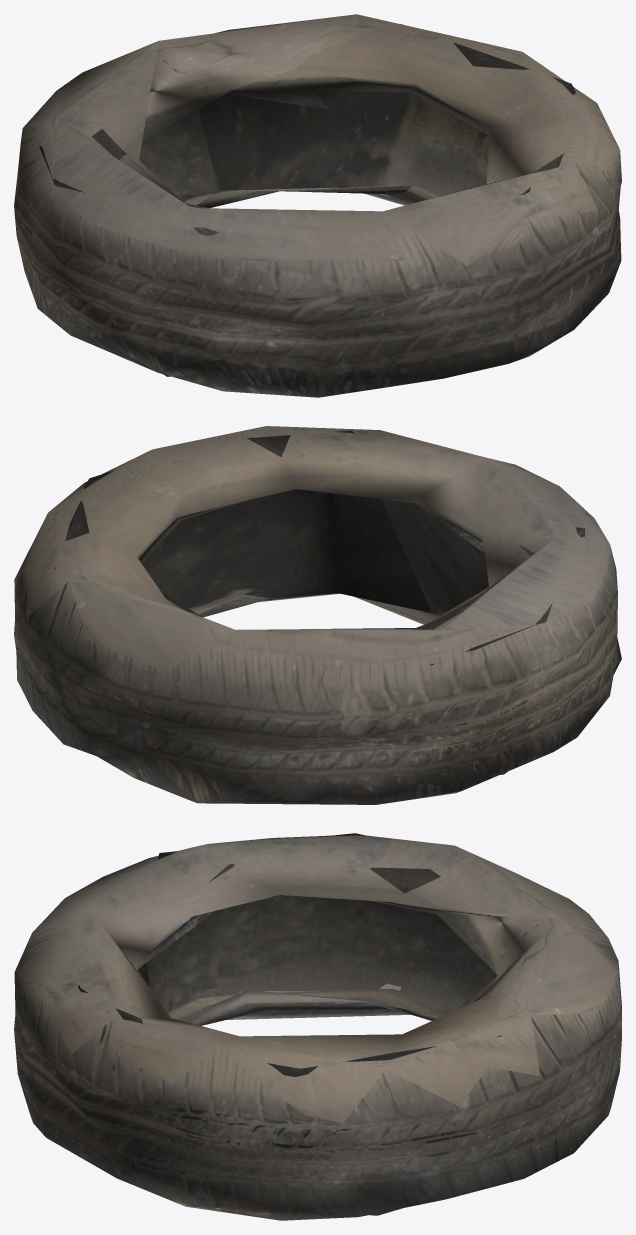
Rendered from Junked Tire.fbx.
The picture shows the model from 3 angles, top to bottom: view 1: azimuth 30°, elevation 25°; view 2: azimuth 150°, elevation 25°; view 3: azimuth 270°, elevation 25°; orthographic projection.
Parts seen in each view (by area): view 1: Junked Tire; view 2: Junked Tire; view 3: Junked Tire.
Boxes of the visible parts, box(x1,y1,x2,y2) form: Junked Tire: box(14, 14, 621, 397); Junked Tire: box(14, 426, 621, 804); Junked Tire: box(14, 833, 621, 1220).
Bounding box in the file's own units: 97.91 × 31.71 × 96.95.
1 material, 1 textured.
